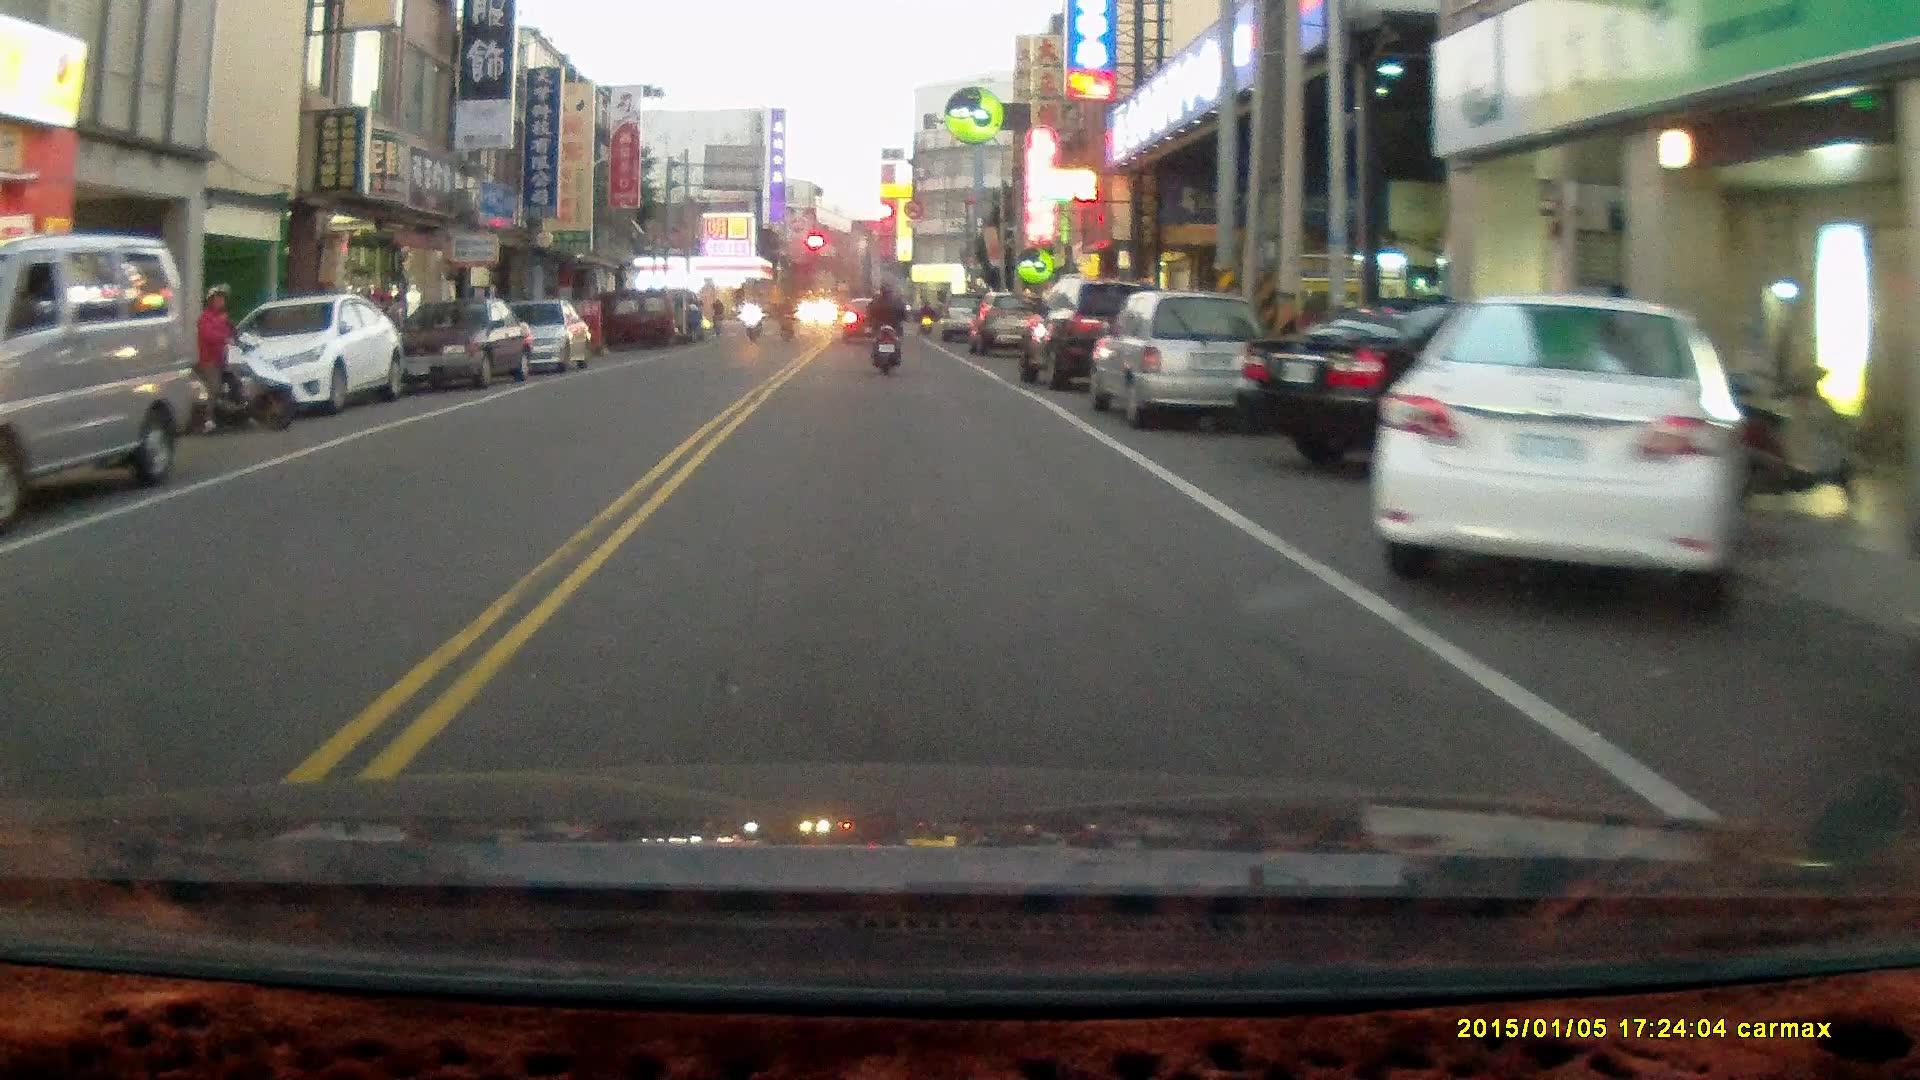rider: (179, 277, 292, 435), (862, 278, 905, 379), (737, 294, 762, 343)
vehicle: (1368, 290, 1765, 606), (1241, 296, 1692, 482), (1, 237, 192, 507), (1092, 290, 1279, 426), (213, 292, 401, 418), (1015, 278, 1167, 394), (381, 299, 539, 393), (473, 298, 588, 377)
